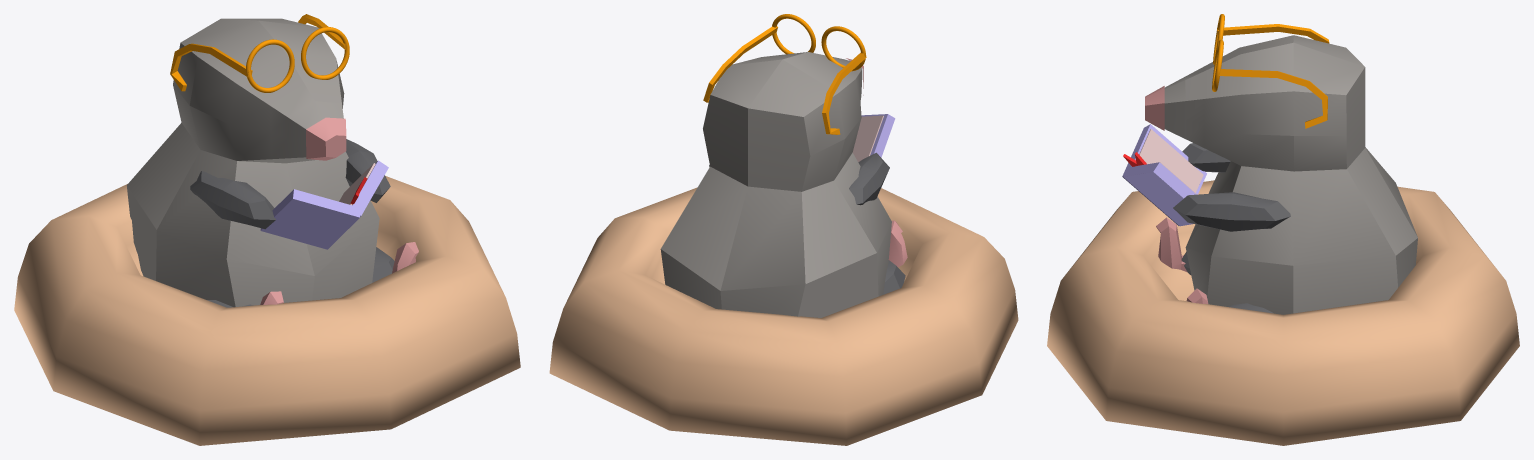
The model's file is elf19.glb.
3 renders of one model, left to right at view 1: azimuth 30°, elevation 25°; view 2: azimuth 150°, elevation 25°; view 3: azimuth 270°, elevation 25°, orthographic. The views are drawn at different scales.
Parts seen in each view (by area): view 1: Cube 7, Cube, Cube 11, Cube 12, Cube 6, Cube 13, Cube 9, Torus, Torus 2, Cube 10, Cube 3, Cube 2; view 2: Cube 7, Cube, Cube 12, Cube 4 (×2), Cube 15, Cube 9, Cube 8, Cube 11, Torus, Torus 2; view 3: Cube 7, Cube, Cube 13, Cube 10, Cube 15, Cube 8, Cube 4, Cube 9, Cube 12, Cube 6, Cube 11.
Boxes of the visible parts, left/top/right/bottom form: Cube 7: left=14, top=176, right=520, bottom=445; Cube: left=126, top=18, right=379, bottom=307; Cube 11: left=260, top=189, right=360, bottom=249; Cube 12: left=190, top=171, right=275, bottom=229; Cube 6: left=306, top=117, right=346, bottom=160; Cube 13: left=345, top=139, right=390, bottom=202; Cube 9: left=170, top=43, right=252, bottom=91; Torus: left=246, top=39, right=294, bottom=92; Torus 2: left=301, top=27, right=349, bottom=79; Cube 10: left=352, top=160, right=388, bottom=216; Cube 3: left=392, top=242, right=418, bottom=273; Cube 2: left=372, top=247, right=394, bottom=282; Cube 7: left=549, top=187, right=1018, bottom=445; Cube: left=660, top=52, right=891, bottom=317; Cube 12: left=849, top=152, right=889, bottom=205; Cube 4 (×2): left=883, top=220, right=907, bottom=294; Cube 15: left=852, top=115, right=883, bottom=162; Cube 9: left=822, top=52, right=866, bottom=134; Cube 8: left=703, top=26, right=777, bottom=102; Cube 11: left=861, top=114, right=895, bottom=157; Torus: left=821, top=26, right=865, bottom=71; Torus 2: left=772, top=14, right=815, bottom=54; Cube 7: left=1047, top=180, right=1519, bottom=445; Cube: left=1164, top=35, right=1417, bottom=314; Cube 13: left=1173, top=192, right=1290, bottom=231; Cube 10: left=1123, top=162, right=1196, bottom=226; Cube 15: left=1139, top=129, right=1203, bottom=192; Cube 8: left=1219, top=69, right=1327, bottom=128; Cube 4: left=1156, top=217, right=1187, bottom=272; Cube 9: left=1217, top=24, right=1329, bottom=43; Cube 12: left=1182, top=143, right=1230, bottom=172; Cube 6: left=1145, top=86, right=1164, bottom=130; Cube 11: left=1122, top=124, right=1206, bottom=225.
Size of the model in its own units: 6.88 by 5.57 by 6.88.
